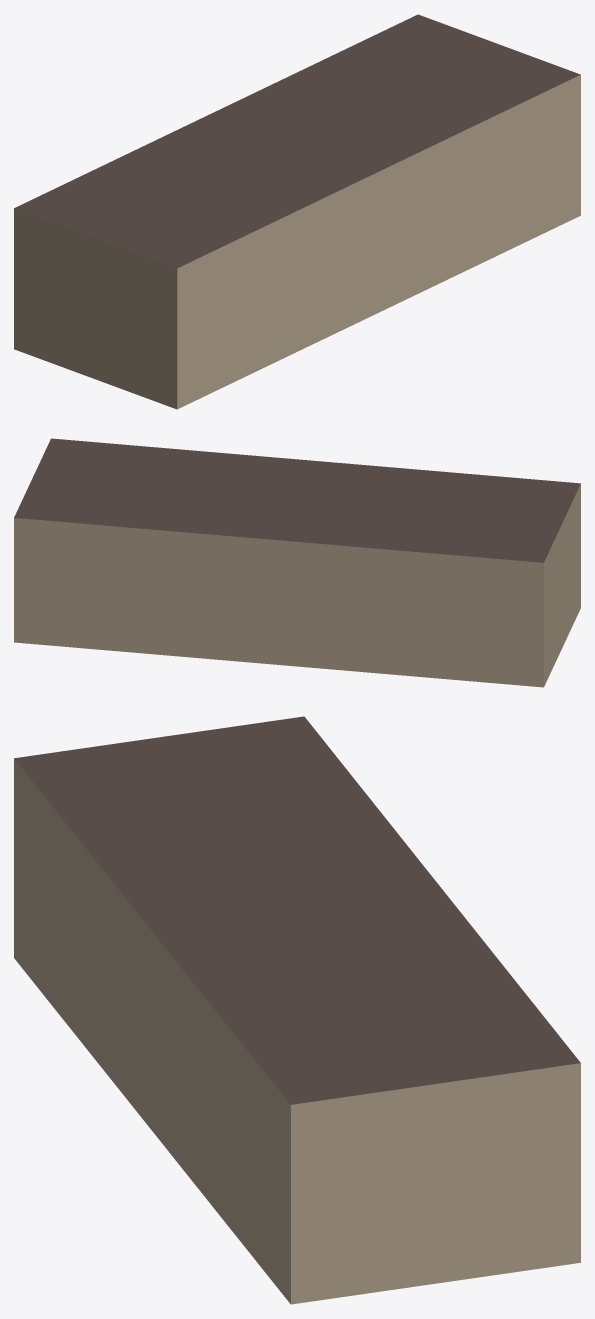
3 renders of one model, top to bottom at view 1: azimuth 30°, elevation 25°; view 2: azimuth 150°, elevation 25°; view 3: azimuth 270°, elevation 25°, orthographic. The views are drawn at different scales.
Visible parts, largest first — view 1: HP-w1286957266; view 2: HP-w1286957266; view 3: HP-w1286957266.
Part boxes in pixels (x1,y1,x2,y2): HP-w1286957266: (14, 14, 580, 409); HP-w1286957266: (14, 438, 580, 687); HP-w1286957266: (14, 716, 580, 1304).
Size of the model in its own units: 37.55 by 9 by 23.16.
